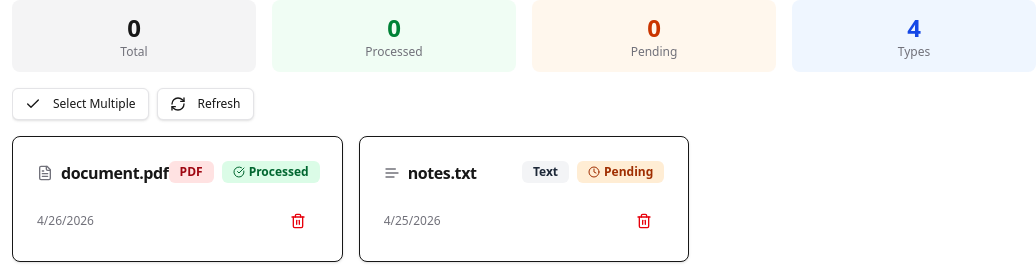
Scenario: RawResourceList › shows selection controls when Select Multiple is clicked
The image size is (1036, 280).
Check: the heading "document.pdf" is shown, box x1=61 y1=161 x2=169 y2=185
Click the button "Select Multiple": {"x": 80, "y": 104} x1=12 y1=88 x2=148 y2=120
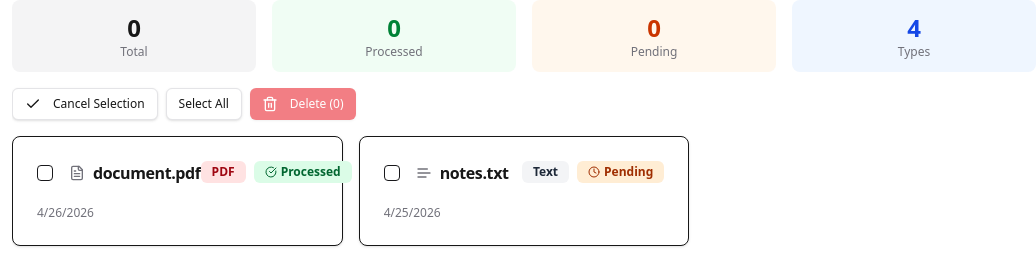
Check: the button "Select All" is shown, box x1=166 y1=88 x2=242 y2=120
Check: the button "Delete (0)" is shown, box x1=250 y1=88 x2=356 y2=120
